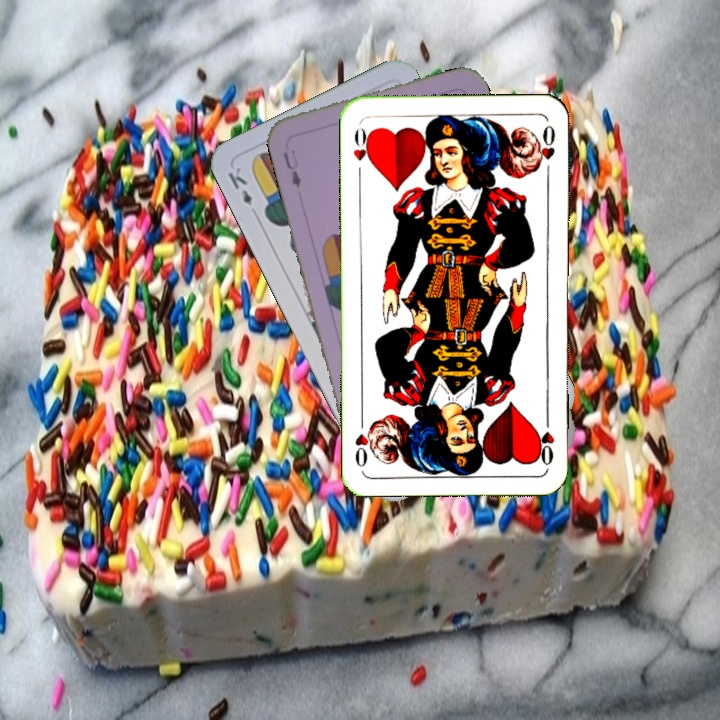EK: (223, 163, 255, 208)
EU: (279, 145, 304, 191)
HO: (349, 121, 374, 180), (534, 409, 557, 469)
